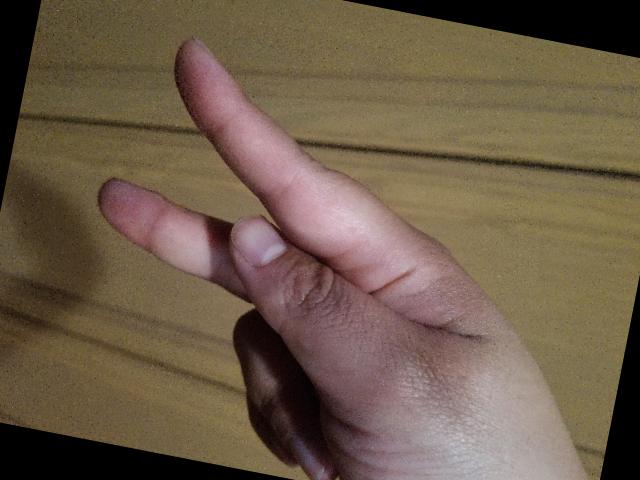P: (43, 13, 624, 480)
